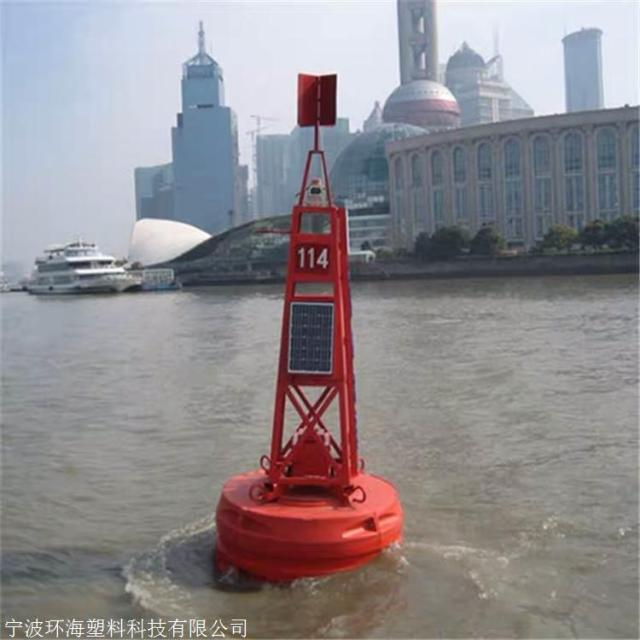buoy: (208, 63, 406, 580)
